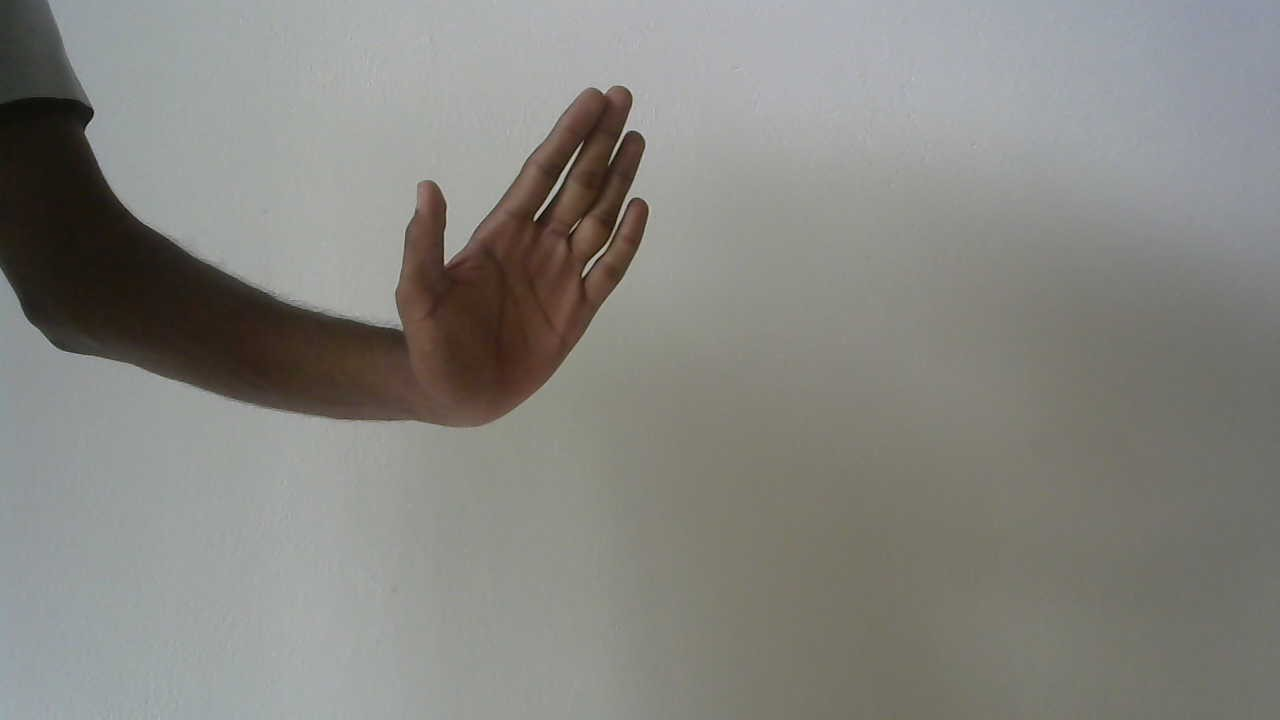hello: (391, 78, 652, 435)
